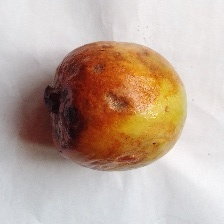guava: (6, 34, 181, 210)
